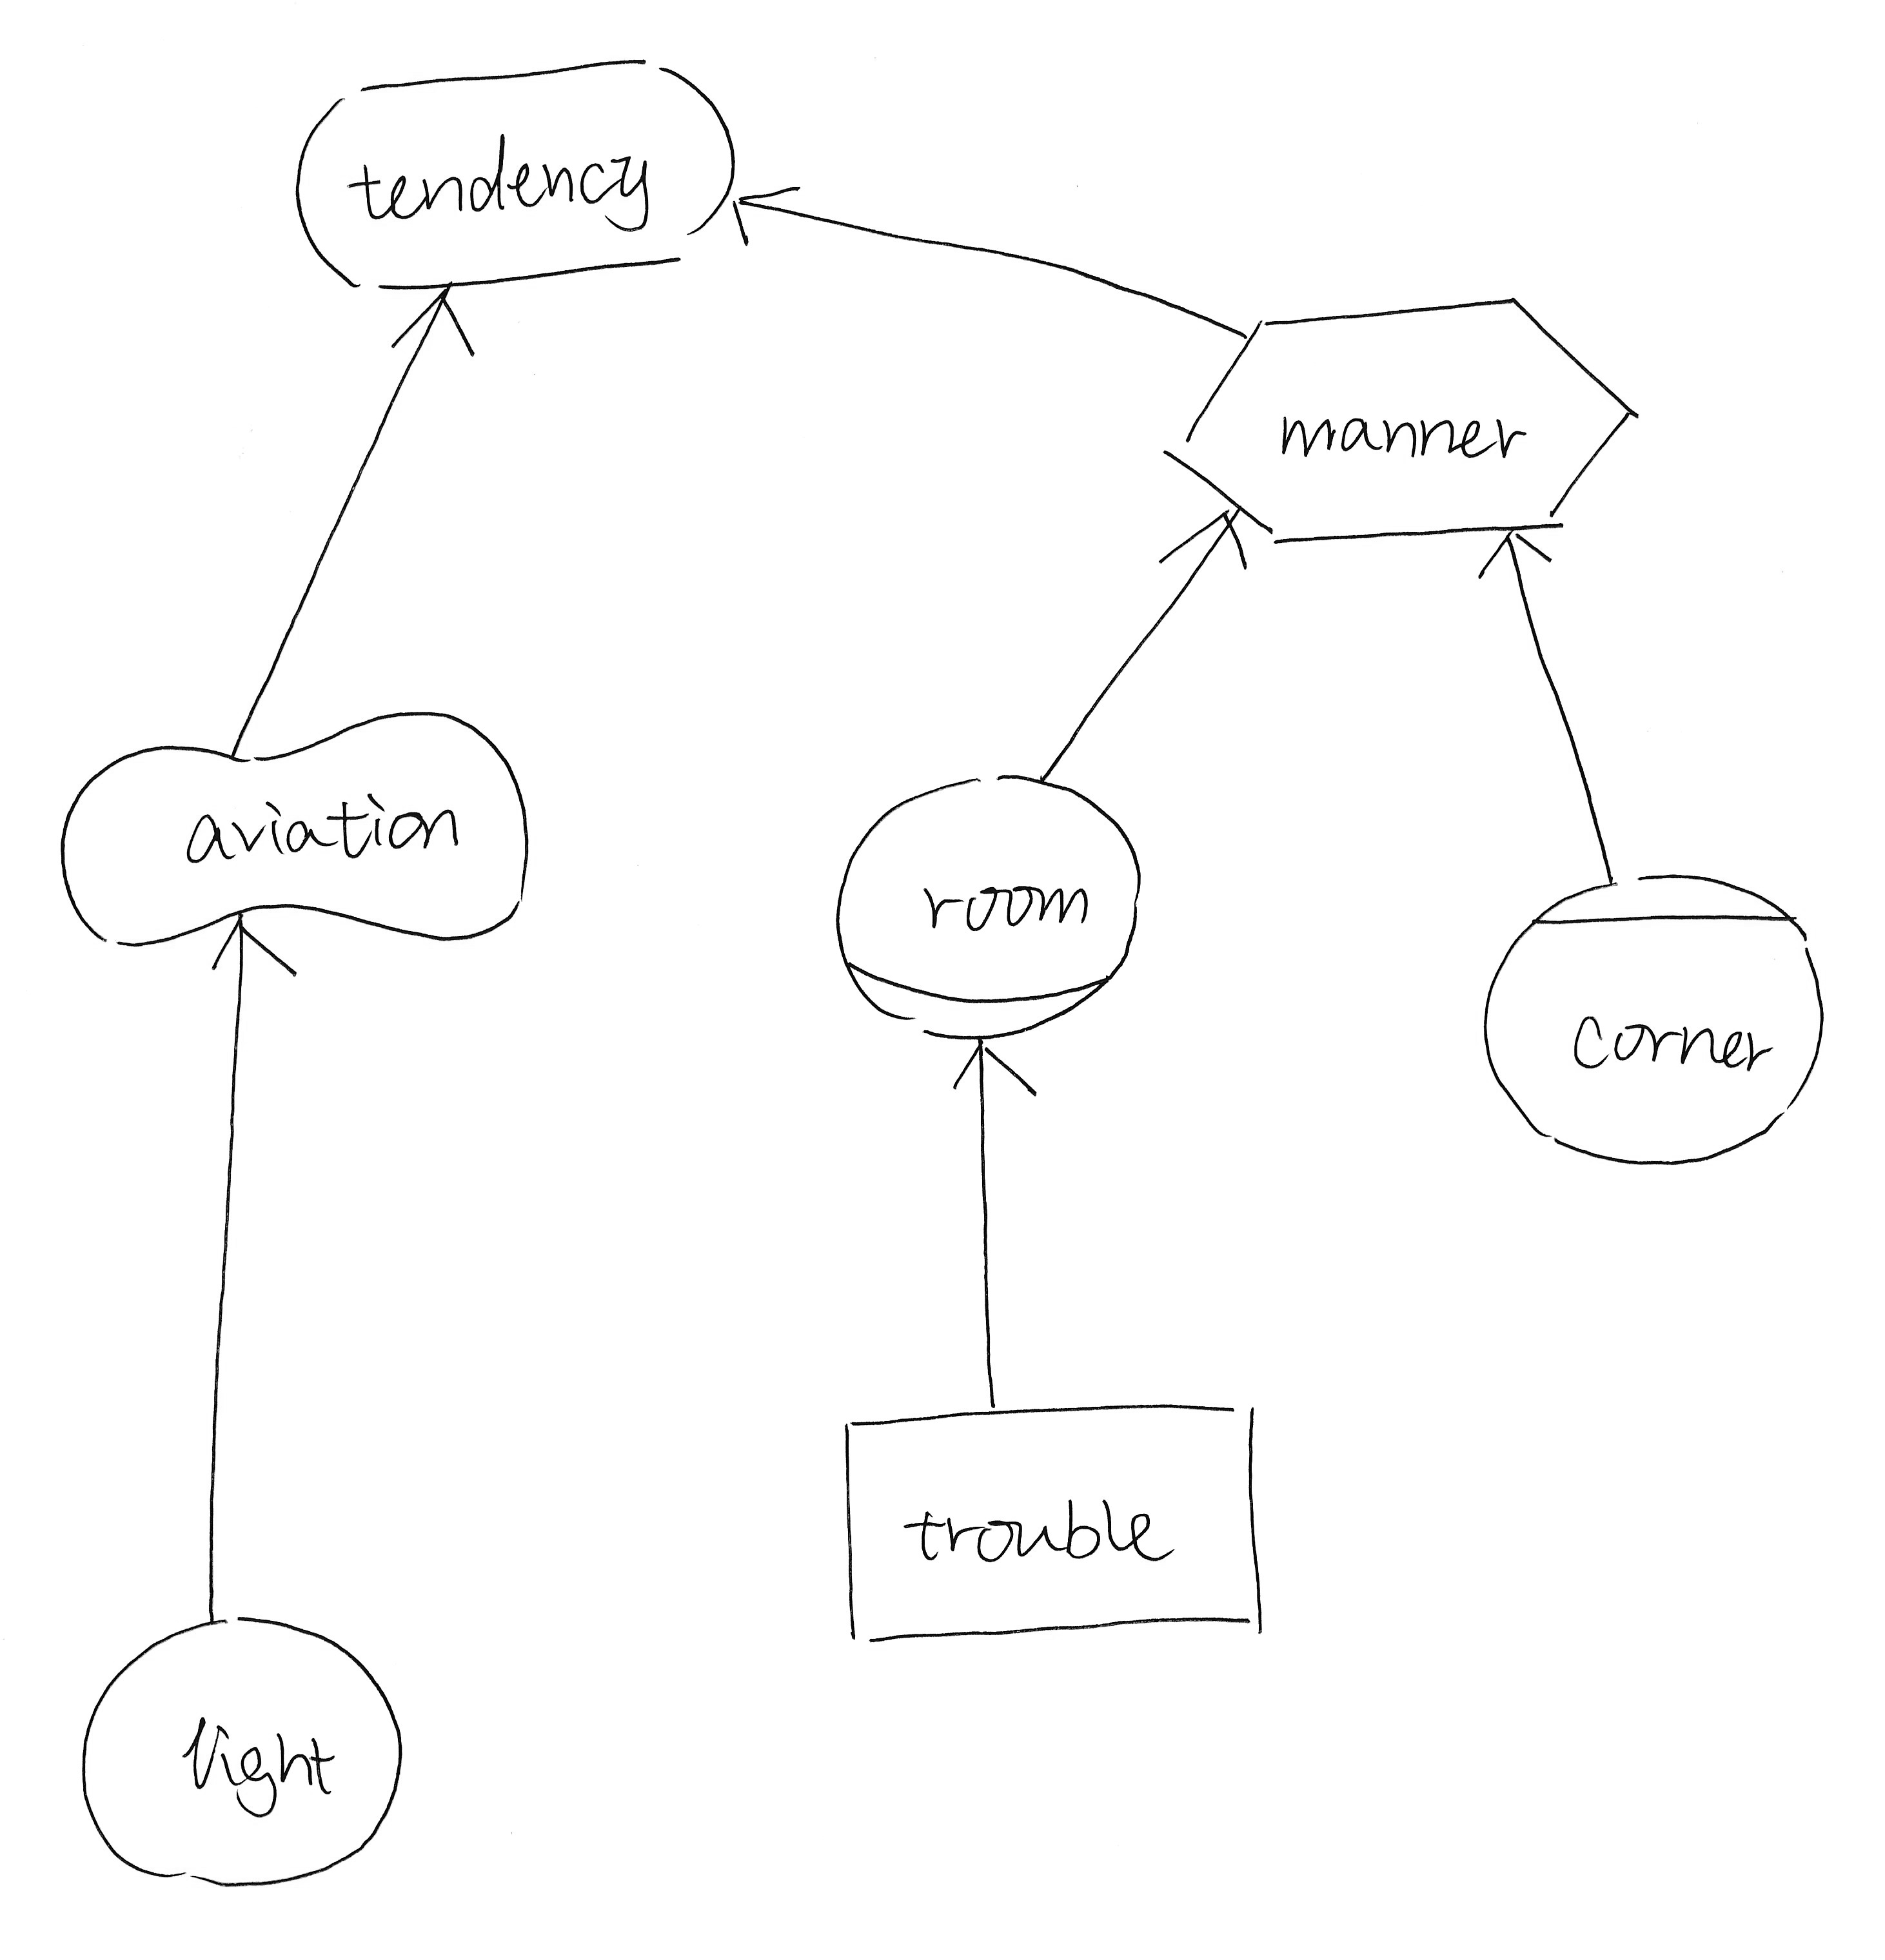actor: (61, 1592, 417, 1895)
agent: (1465, 850, 1838, 1178)
arrow: (382, 273, 488, 371), (203, 905, 306, 1001), (1143, 504, 1258, 590), (718, 170, 810, 269), (940, 1034, 1048, 1113), (1460, 525, 1573, 597)
goal: (275, 35, 746, 308)
quality: (35, 693, 551, 961)
resource: (816, 1379, 1297, 1655)
role: (817, 749, 1155, 1055)
task: (1152, 276, 1656, 565)
